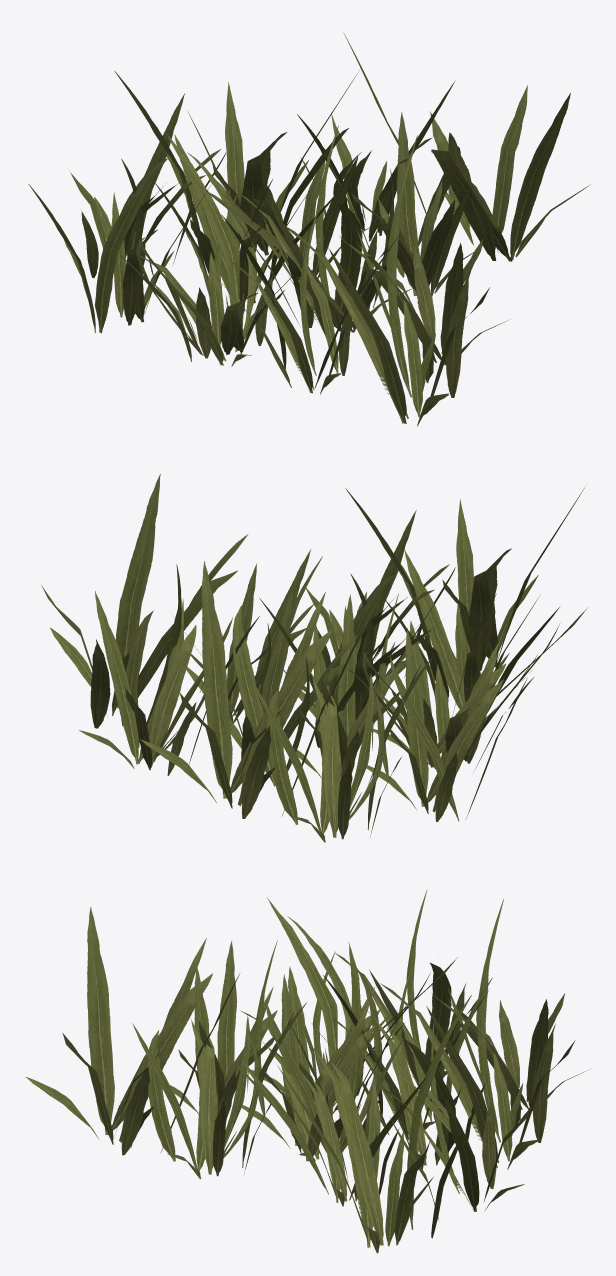
The model's file is low-grass.gltf.
3 views of the same model, one above another, from view 1: azimuth 30°, elevation 25°; view 2: azimuth 150°, elevation 25°; view 3: azimuth 270°, elevation 25° (orthographic). The views are drawn at different scales.
Parts seen in each view (by area): view 1: LowPoly_Grass; view 2: LowPoly_Grass; view 3: LowPoly_Grass.
Boxes of the visible parts, x1,y1,x2,y2 form: LowPoly_Grass: (28, 32, 590, 426); LowPoly_Grass: (41, 474, 587, 842); LowPoly_Grass: (26, 889, 591, 1253).
Size of the model in its own units: 0.9885 by 0.4009 by 0.985.
Materials: 1 (1 with a texture image).
